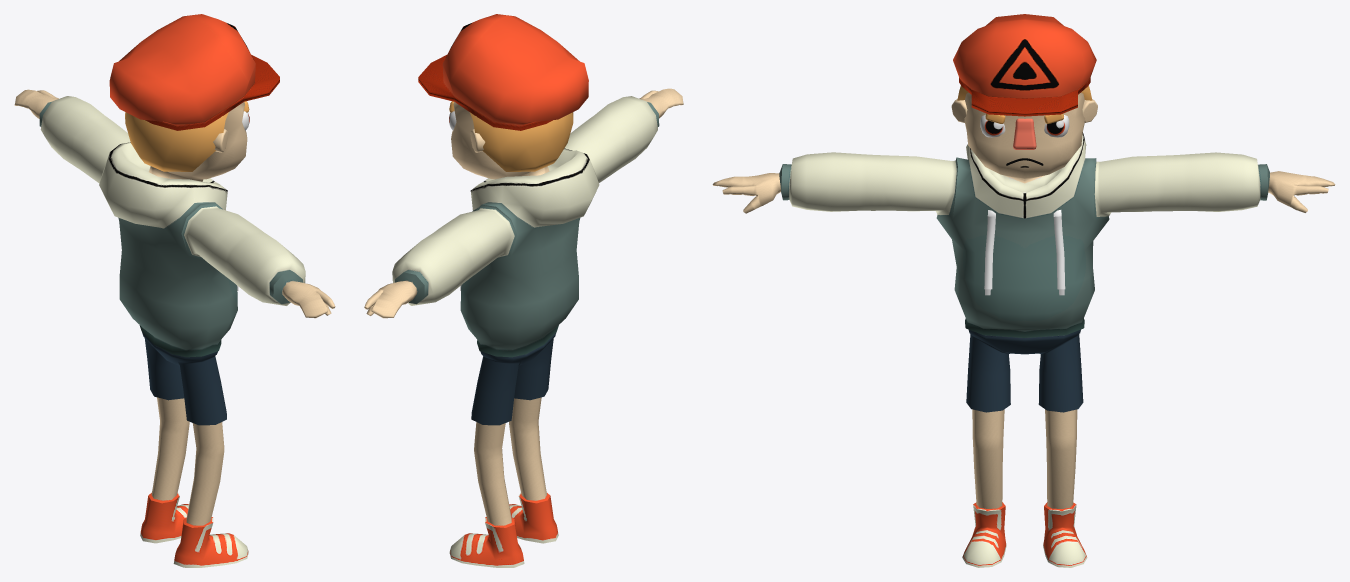
The model's file is Man.glb.
3 renders of one model, left to right at view 1: azimuth 30°, elevation 25°; view 2: azimuth 150°, elevation 25°; view 3: azimuth 270°, elevation 25°, orthographic. The views are drawn at different scales.
Visible parts, largest first — view 1: pCube3; view 2: pCube3; view 3: pCube3.
Part boxes in pixels (box(x1,y1,x2,y2)): pCube3: box(14, 14, 335, 567); pCube3: box(364, 14, 683, 567); pCube3: box(712, 14, 1335, 567).
Bounding box in the file's own units: 1.46 × 4.51 × 4.75.
Materials: 1 (1 with a texture image).
